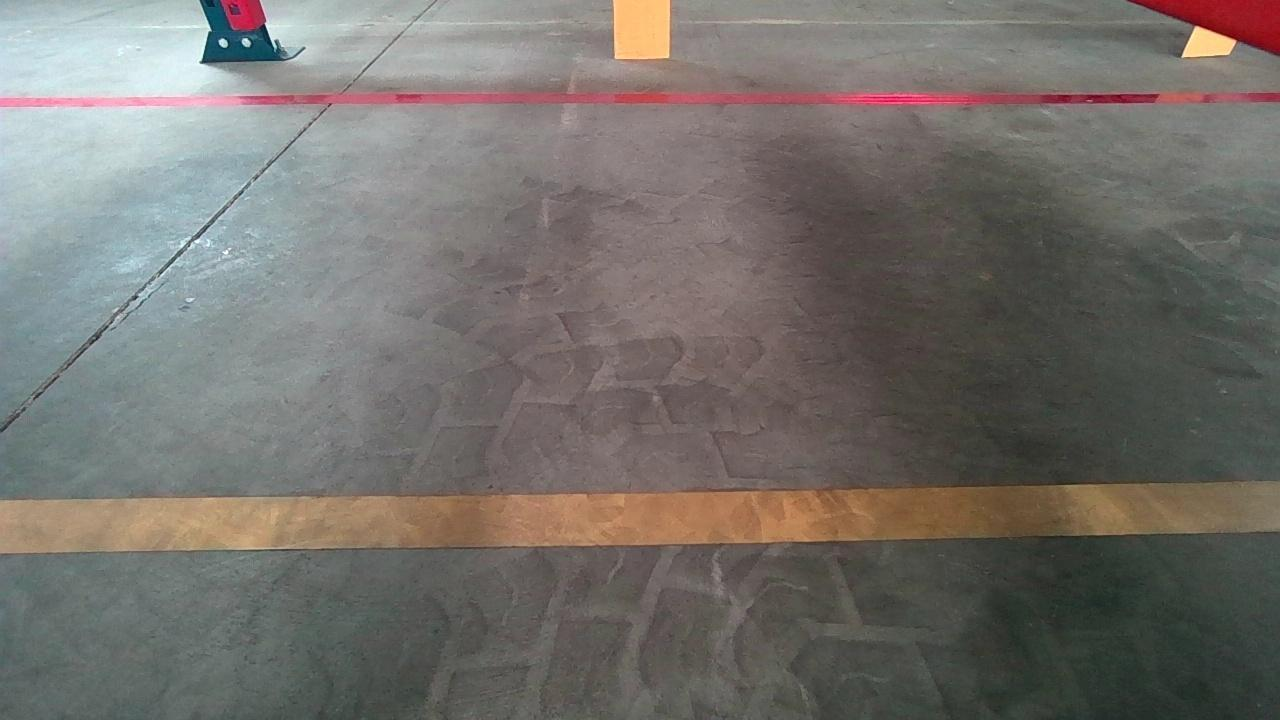red_line: (12, 78, 1278, 111)
yellow_line: (7, 480, 1268, 555)
